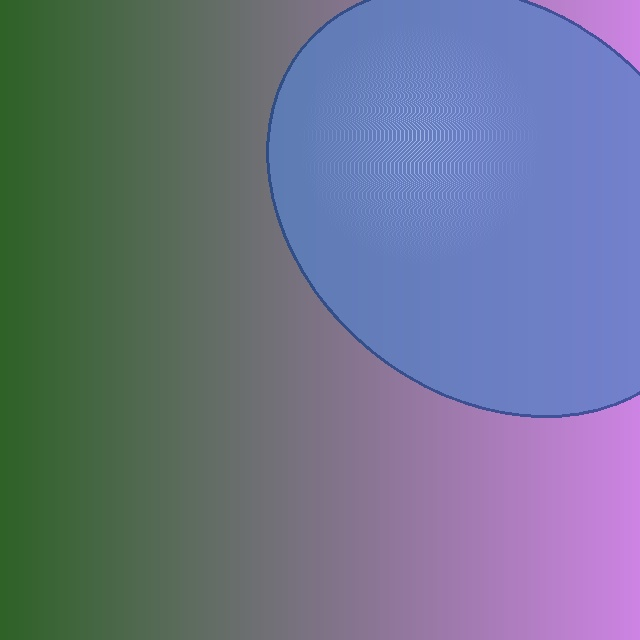lens: (267, 0, 640, 416)
